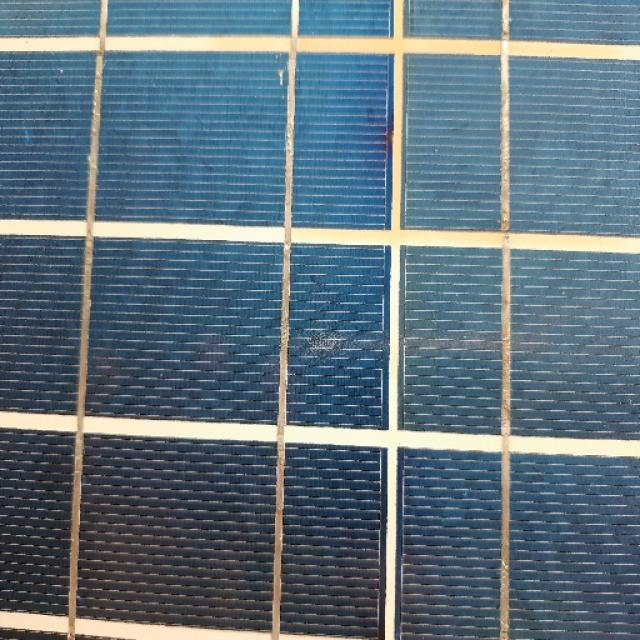Clean: (2, 43, 640, 637)
